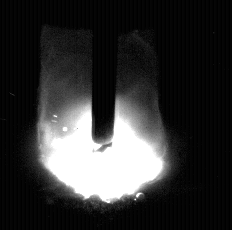arame: (92, 0, 116, 145)
poca: (37, 0, 167, 230)
